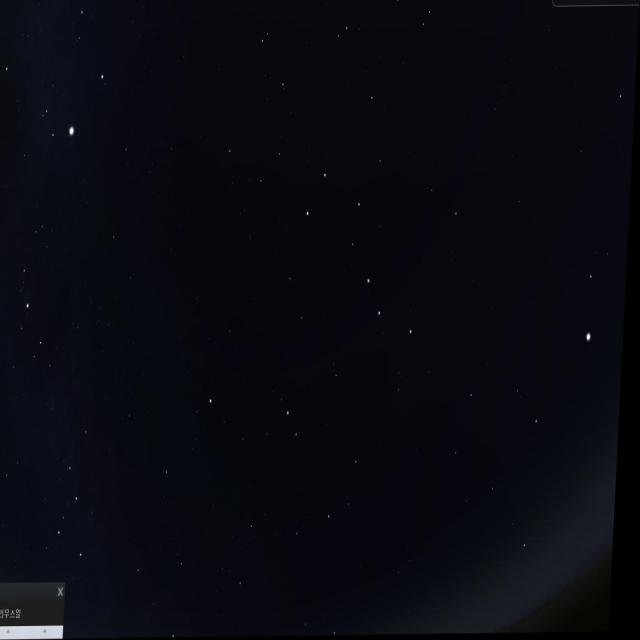cassiopeia: (47, 399, 127, 598)
ursa_major: (300, 165, 428, 352)
